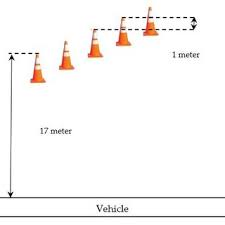cones: (57, 41, 82, 77), (137, 4, 162, 39), (112, 17, 134, 50), (28, 50, 49, 79), (83, 27, 101, 53)
